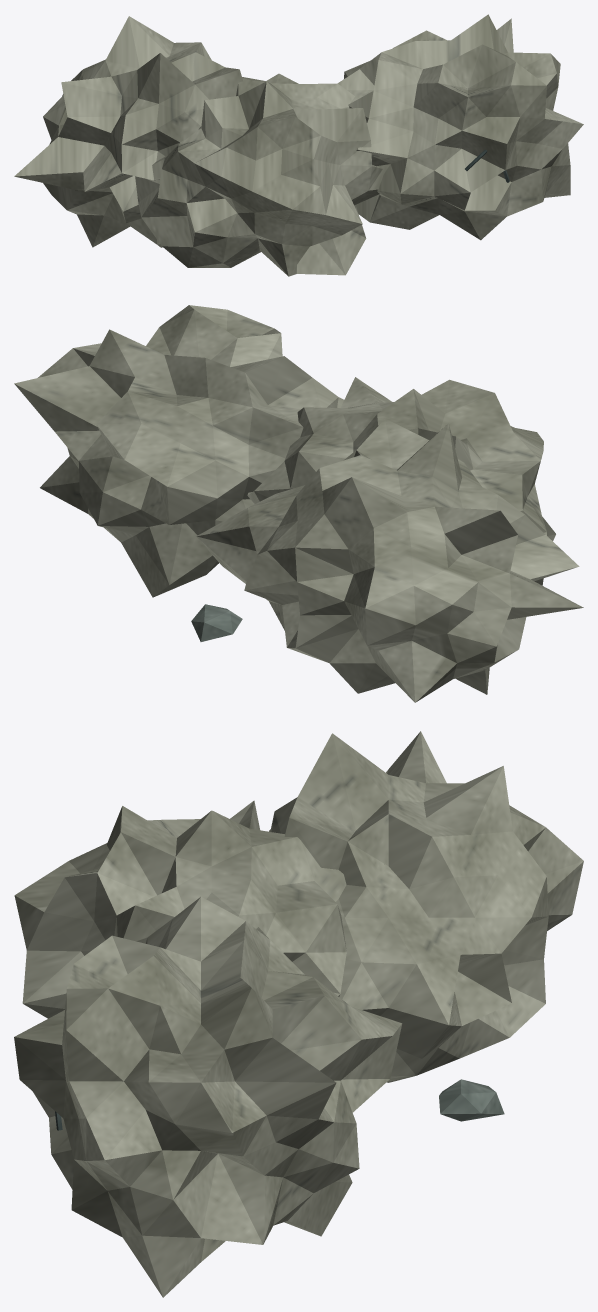
Rendered from 0020_boulder_20.glb.
The picture shows the model from 3 angles, top to bottom: view 1: azimuth 30°, elevation 25°; view 2: azimuth 150°, elevation 25°; view 3: azimuth 270°, elevation 25°; orthographic projection. The views are drawn at different scales.
Parts seen in each view (by area): view 1: stone_light; view 2: stone_light, stone; view 3: stone_light, stone.
Part boxes in pixels (x1,y1,x2,y2): stone_light: (14, 14, 583, 276); stone_light: (14, 305, 583, 702); stone: (191, 604, 242, 641); stone_light: (14, 731, 583, 1297); stone: (439, 1079, 504, 1121).
Size of the model in its own units: 4.09 by 1.61 by 2.61.
3 materials, 3 textured.
